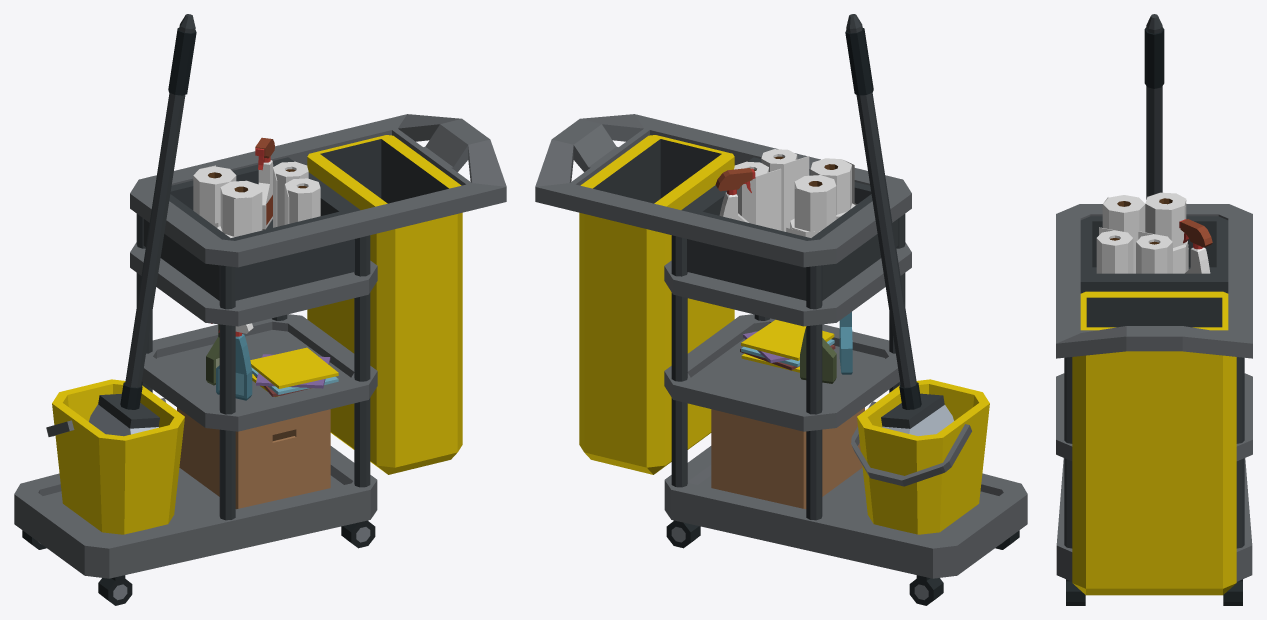
The model's file is SM_Props_CleaningCart_01.fbx.
3 renders of one model, left to right at view 1: azimuth 30°, elevation 25°; view 2: azimuth 150°, elevation 25°; view 3: azimuth 270°, elevation 25°, orthographic.
Parts seen in each view (by area): view 1: SM_Props_CleaningCart_01; view 2: SM_Props_CleaningCart_01; view 3: SM_Props_CleaningCart_01.
Boxes of the visible parts, <box> form: SM_Props_CleaningCart_01: <box>14,14,506,605</box>; SM_Props_CleaningCart_01: <box>535,14,1027,605</box>; SM_Props_CleaningCart_01: <box>1056,14,1252,605</box>.
Bounding box in the file's own units: 1.49 × 1.77 × 0.6.
